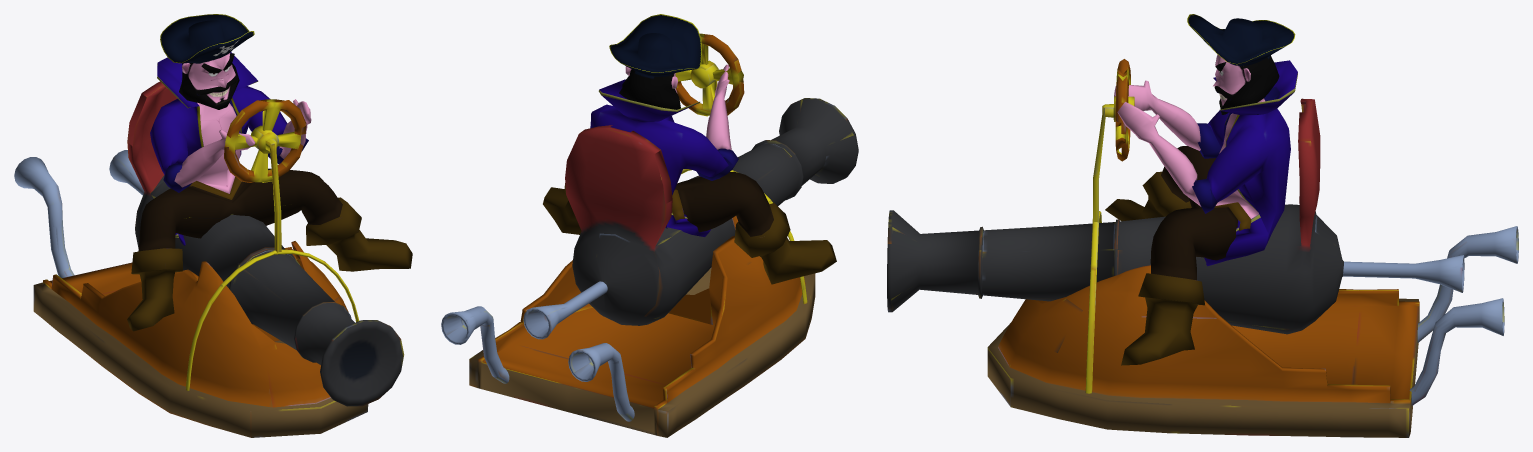
Rendered from PirataHabilidad_000169.obj.
3 renders of one model, left to right at view 1: azimuth 30°, elevation 25°; view 2: azimuth 150°, elevation 25°; view 3: azimuth 270°, elevation 25°, orthographic. The views are drawn at different scales.
Parts seen in each view (by area): view 1: carro_pirata_carro_pirata.001, Pirata_PirataH; view 2: carro_pirata_carro_pirata.001, Pirata_PirataH; view 3: carro_pirata_carro_pirata.001, Pirata_PirataH.
Boxes of the visible parts, <box> form: carro_pirata_carro_pirata.001: <box>14,81,404,437</box>; Pirata_PirataH: <box>127,14,412,331</box>; carro_pirata_carro_pirata.001: <box>441,33,858,437</box>; Pirata_PirataH: <box>543,14,836,284</box>; carro_pirata_carro_pirata.001: <box>887,59,1518,437</box>; Pirata_PirataH: <box>1105,14,1297,365</box>.
Size of the model in its own units: 6.97 by 7.58 by 12.1.
